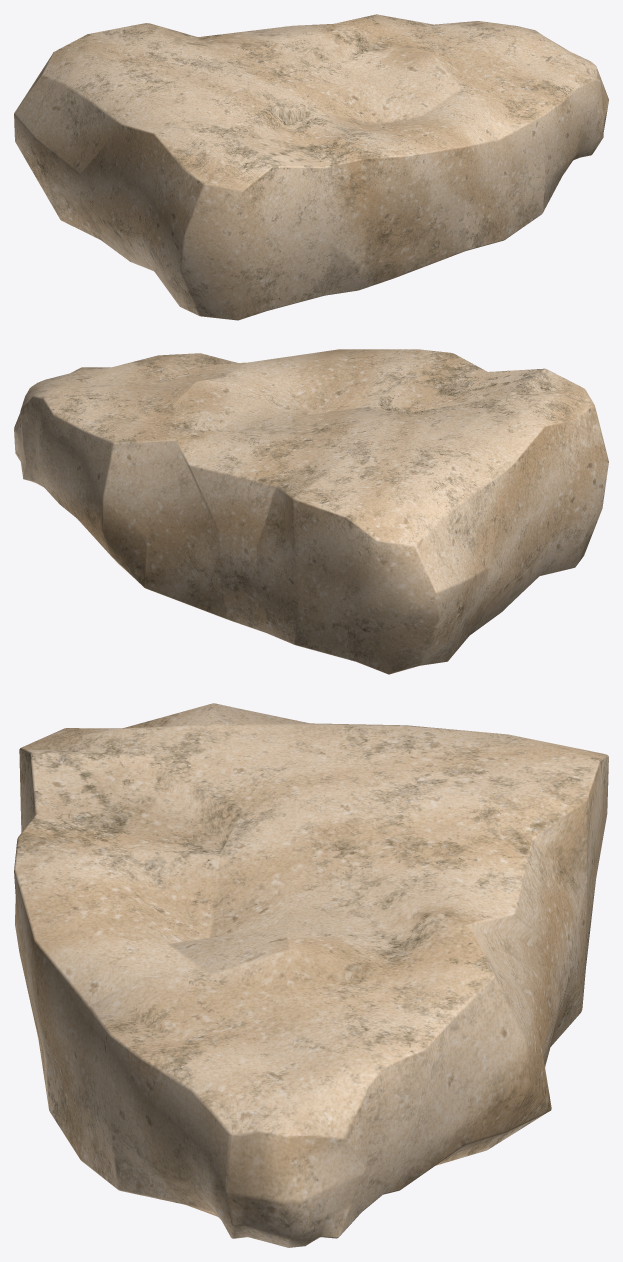
Rendered from kapak-persegi.glb.
3 views of the same model, one above another, from view 1: azimuth 30°, elevation 25°; view 2: azimuth 150°, elevation 25°; view 3: azimuth 270°, elevation 25° (orthographic). The views are drawn at different scales.
Visible parts, largest first — view 1: kapak-persegi-a-mesh; view 2: kapak-persegi-a-mesh; view 3: kapak-persegi-a-mesh.
Part boxes in pixels (x1=…): kapak-persegi-a-mesh: x1=14, y1=14, x2=608, y2=320; kapak-persegi-a-mesh: x1=14, y1=349, x2=608, y2=674; kapak-persegi-a-mesh: x1=14, y1=703, x2=608, y2=1247.
Size of the model in its own units: 0.1703 by 0.0528 by 0.1157.
1 material, 1 textured.
